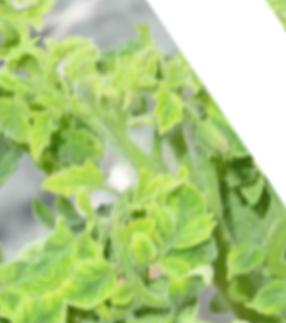Tomato leaf yellow virus: (136, 166, 228, 264), (50, 241, 137, 323), (35, 141, 123, 219), (15, 104, 74, 164), (140, 83, 195, 143), (0, 76, 24, 155)
